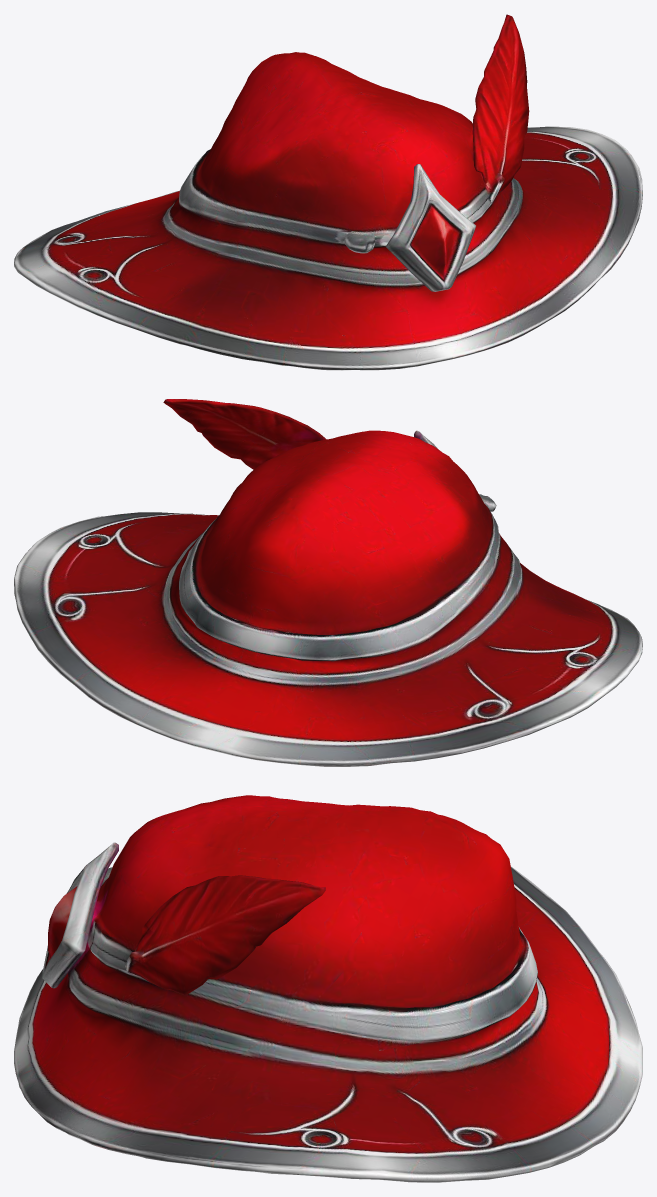
File: RedRangedHat.glb
The picture shows the model from 3 angles, top to bottom: view 1: azimuth 30°, elevation 25°; view 2: azimuth 150°, elevation 25°; view 3: azimuth 270°, elevation 25°; orthographic projection. The views are drawn at different scales.
Visible parts, largest first — view 1: Mesh_0; view 2: Mesh_0; view 3: Mesh_0.
Boxes of the visible parts, x1,y1,x2,y2 form: Mesh_0: [14, 14, 642, 370]; Mesh_0: [14, 399, 642, 766]; Mesh_0: [14, 795, 642, 1182].
Bounding box in the file's own units: 1.91 × 0.6888 × 1.38.
Materials: 1 (1 with a texture image).
